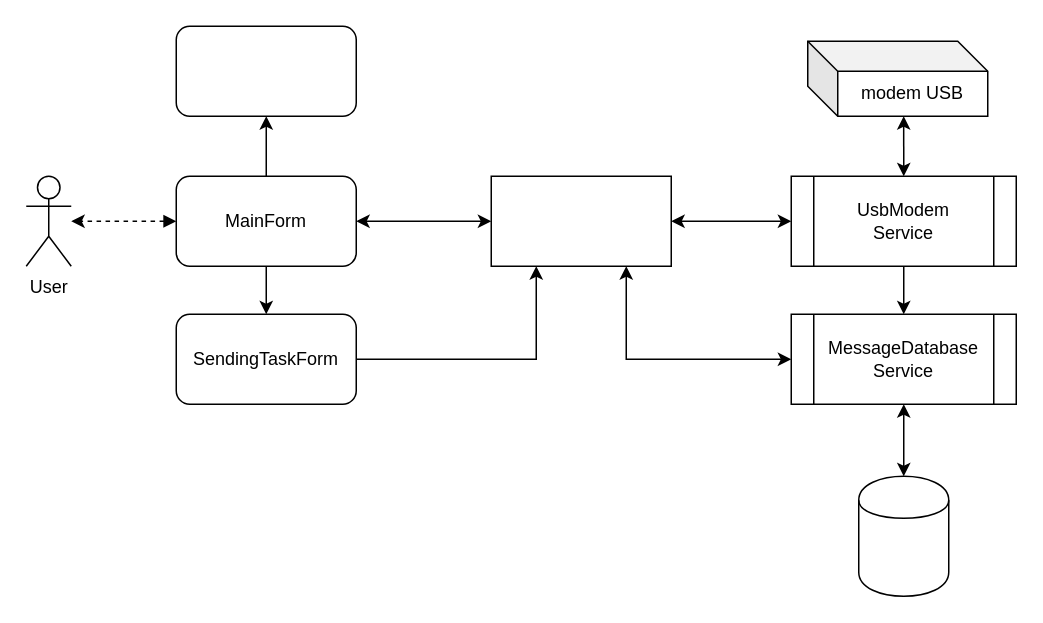
This 1043x623 diagram has some shape labels left out. Here are the shapes that lost their labels. From the top down, the centre of each, then its label:
point (265, 70): AboutProgram Form
point (580, 220): MainPresenter
point (903, 535): JSON
